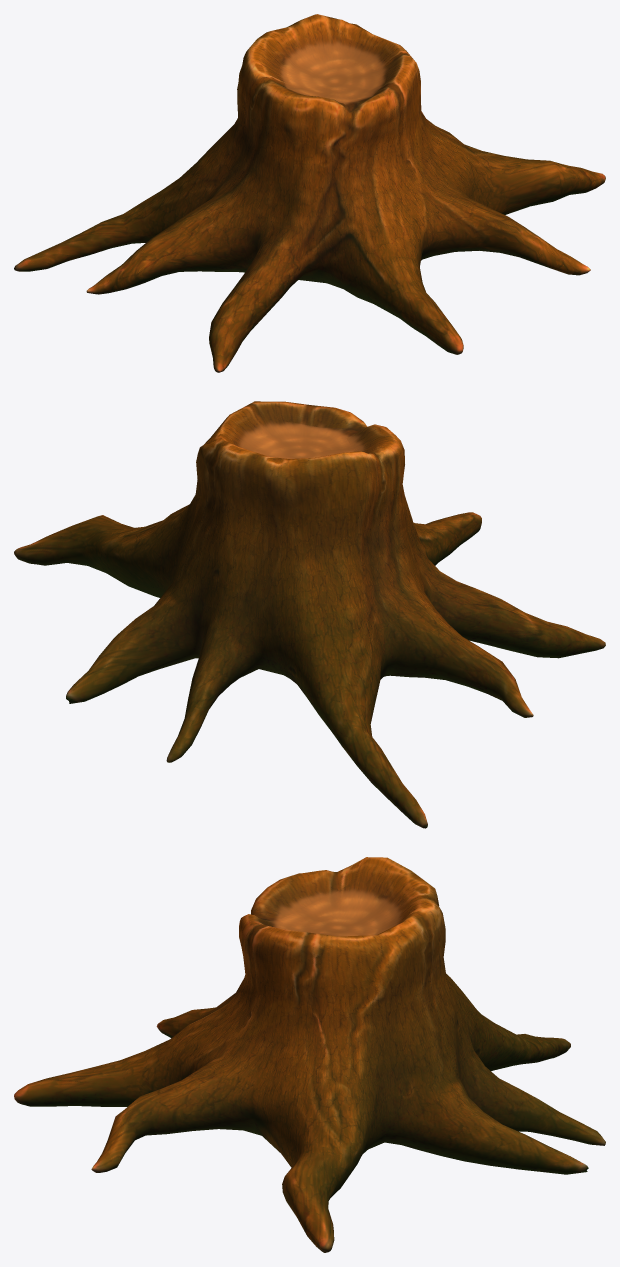
Rendered from VEG0210001.fbx.
3 renders of one model, top to bottom at view 1: azimuth 30°, elevation 25°; view 2: azimuth 150°, elevation 25°; view 3: azimuth 270°, elevation 25°, orthographic. The views are drawn at different scales.
Parts seen in each view (by area): view 1: smVEG0210001; view 2: smVEG0210001; view 3: smVEG0210001.
Boxes of the visible parts, x1,y1,x2,y2 form: smVEG0210001: [14, 14, 605, 372]; smVEG0210001: [14, 401, 605, 828]; smVEG0210001: [14, 857, 605, 1252].
Bounding box in the file's own units: 241 × 114 × 223.
Materials: 1 (1 with a texture image).
